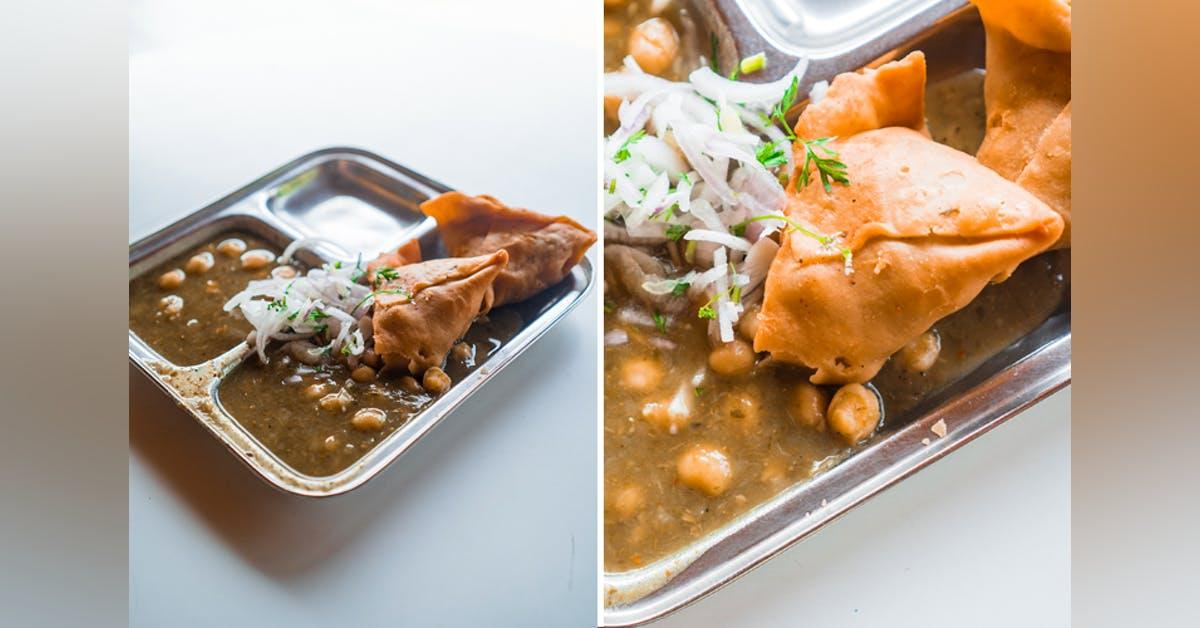samosa: (755, 129, 1064, 384), (755, 232, 1050, 384), (795, 52, 929, 141)
